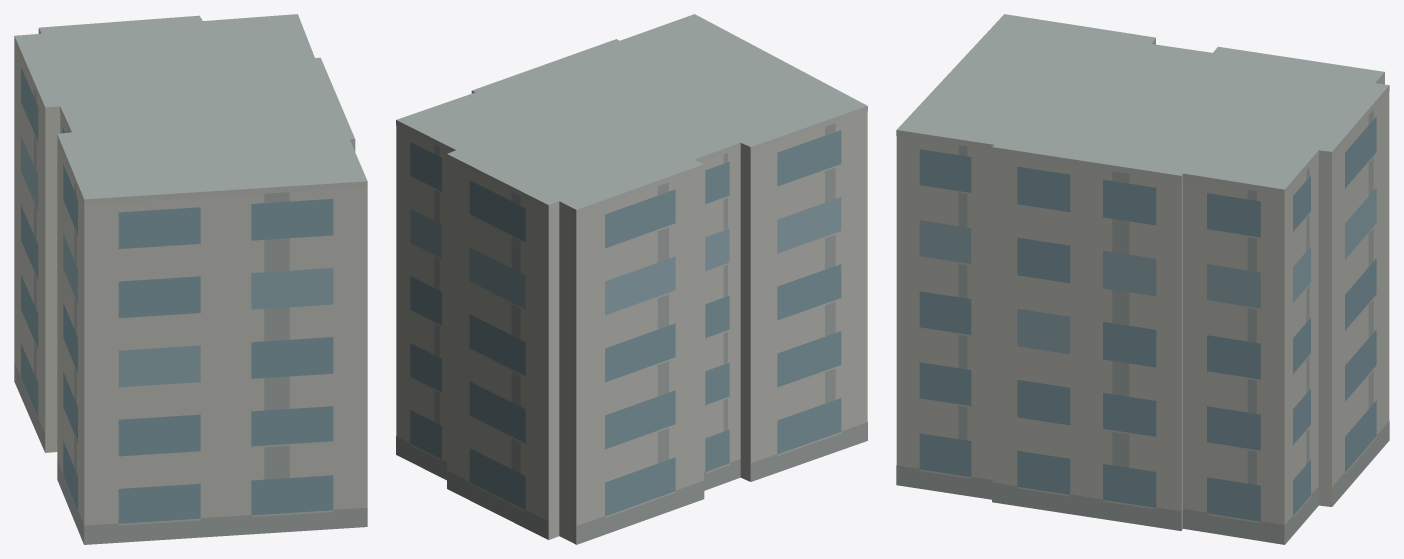
File: survey-upis-32952558.glb
3 views of the same model, side by side, from view 1: azimuth 30°, elevation 25°; view 2: azimuth 150°, elevation 25°; view 3: azimuth 270°, elevation 25° (orthographic). The views are drawn at different scales.
Visible parts, largest first — view 1: survey-upis-32952558.tmp; view 2: survey-upis-32952558.tmp; view 3: survey-upis-32952558.tmp.
Part boxes in pixels (bbox=[...]): survey-upis-32952558.tmp: bbox=[14, 14, 367, 544]; survey-upis-32952558.tmp: bbox=[396, 14, 867, 544]; survey-upis-32952558.tmp: bbox=[896, 14, 1389, 544].
Size of the model in its own units: 15.39 by 14.5 by 18.25.
